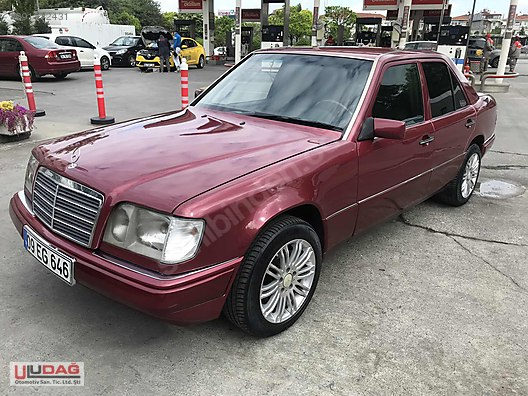mercedes: (6, 44, 503, 329)
